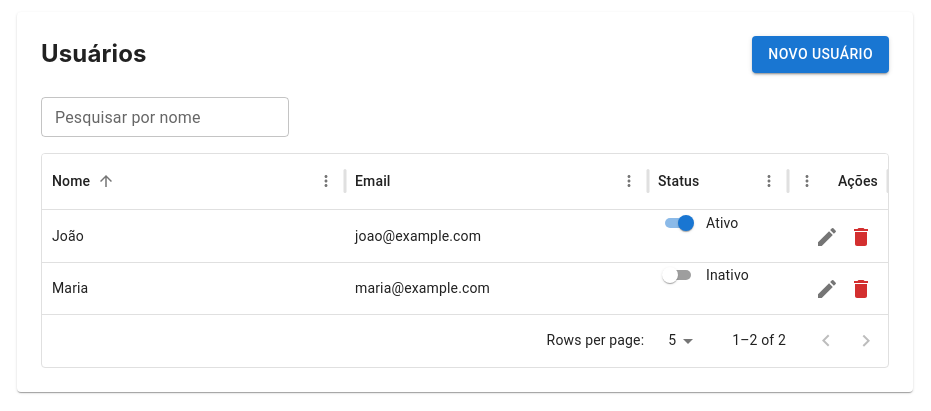
Test case: UserListPage › deve filtrar usuários pelo nome digitado
The image size is (931, 411).
Check: the text "João" is shown, box top-left (52, 228), bottom-right (84, 244)
Check: the text "Maria" is shown, box top-left (42, 262), bottom-right (345, 314)
In the field labelled "Pesquisar por nome": (165, 116) top-left (41, 96), bottom-right (289, 136), type "João"
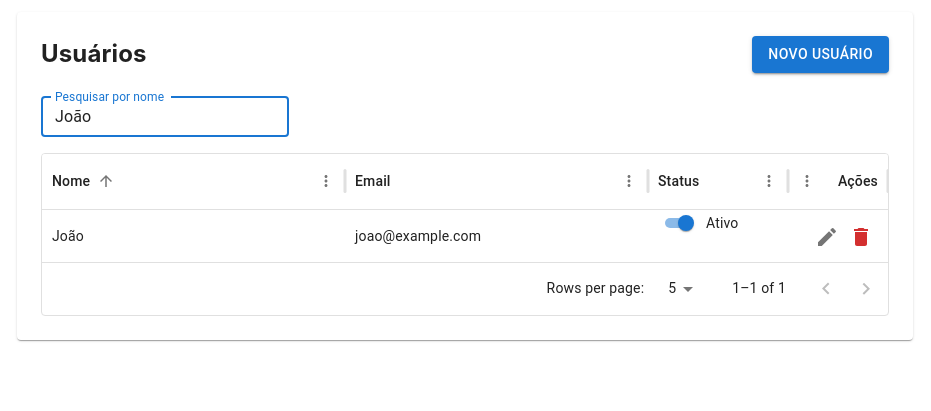
Check: the text "João" is shown, box top-left (52, 228), bottom-right (84, 244)
Check: the text "Maria" is gone
